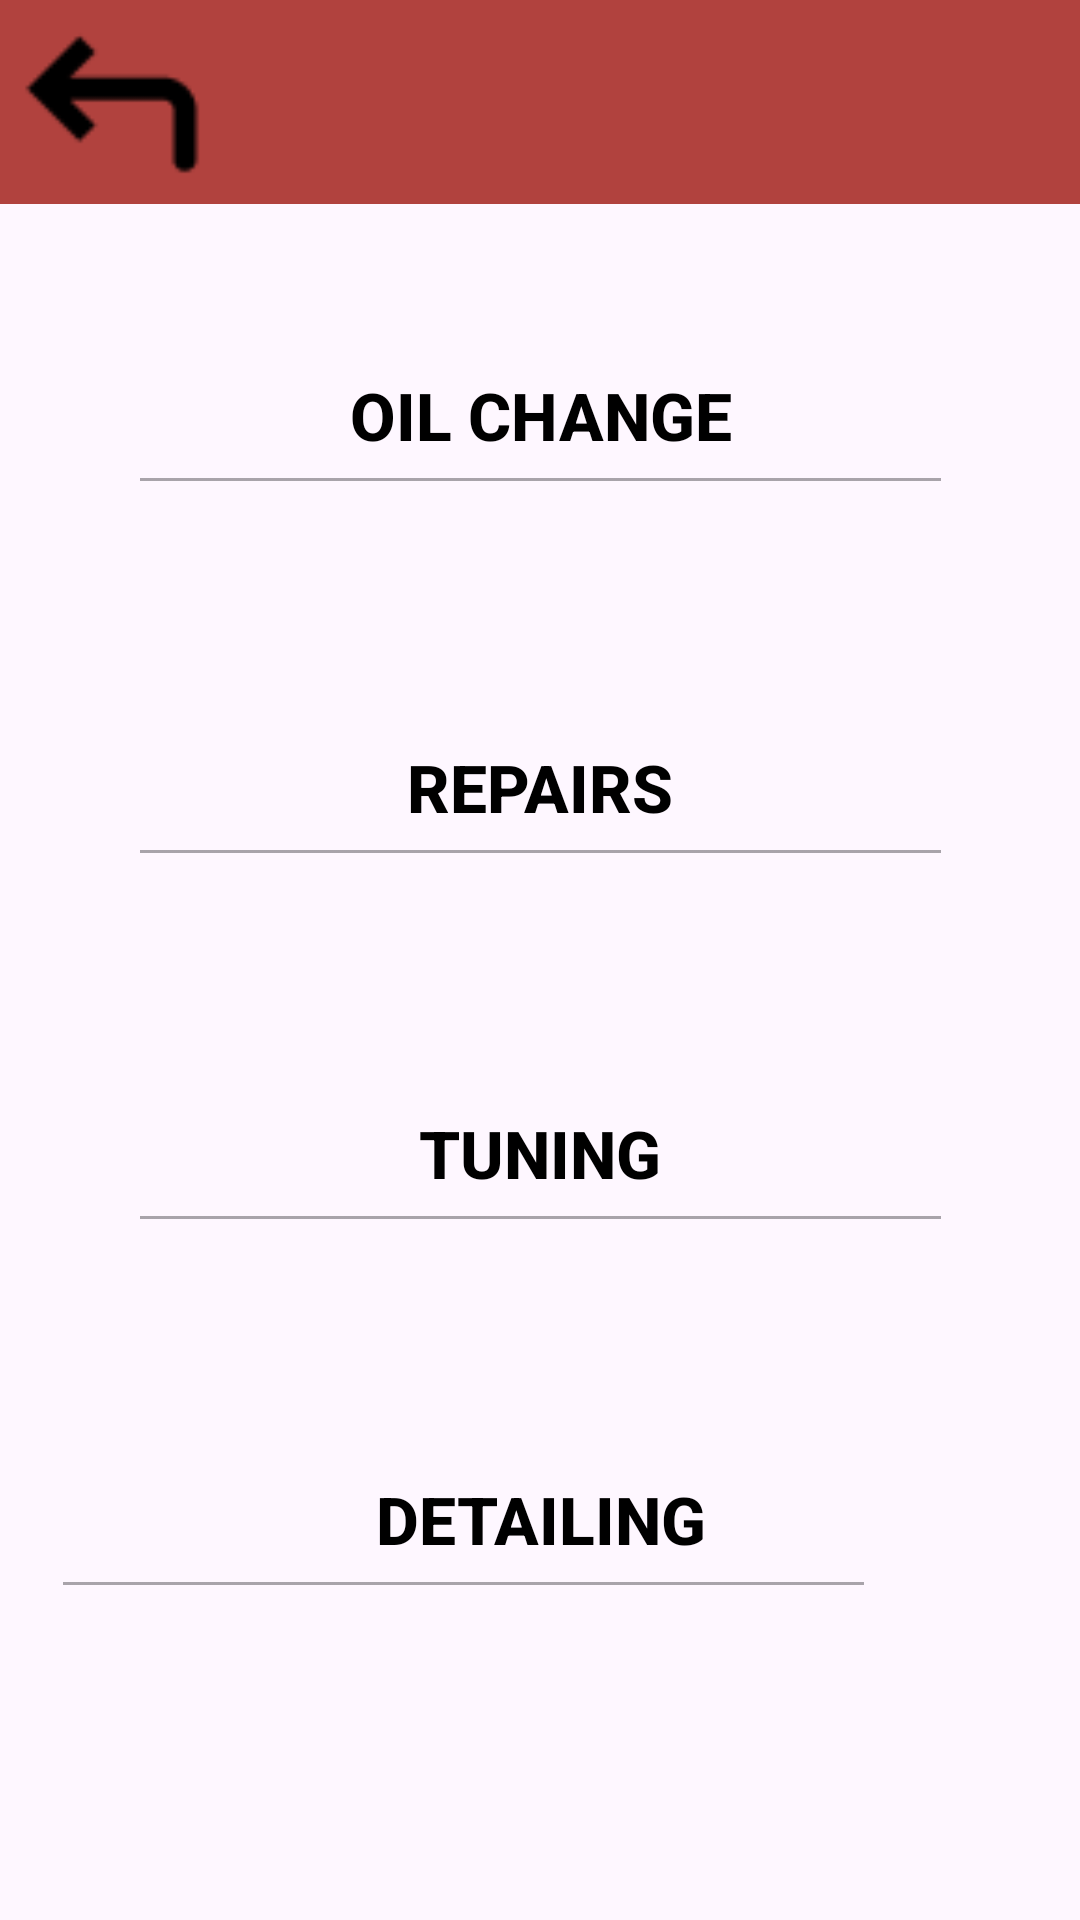

Where to tap for icons on this 1080px x 1920px app screen, as [x,y]:
back: [114,106]
